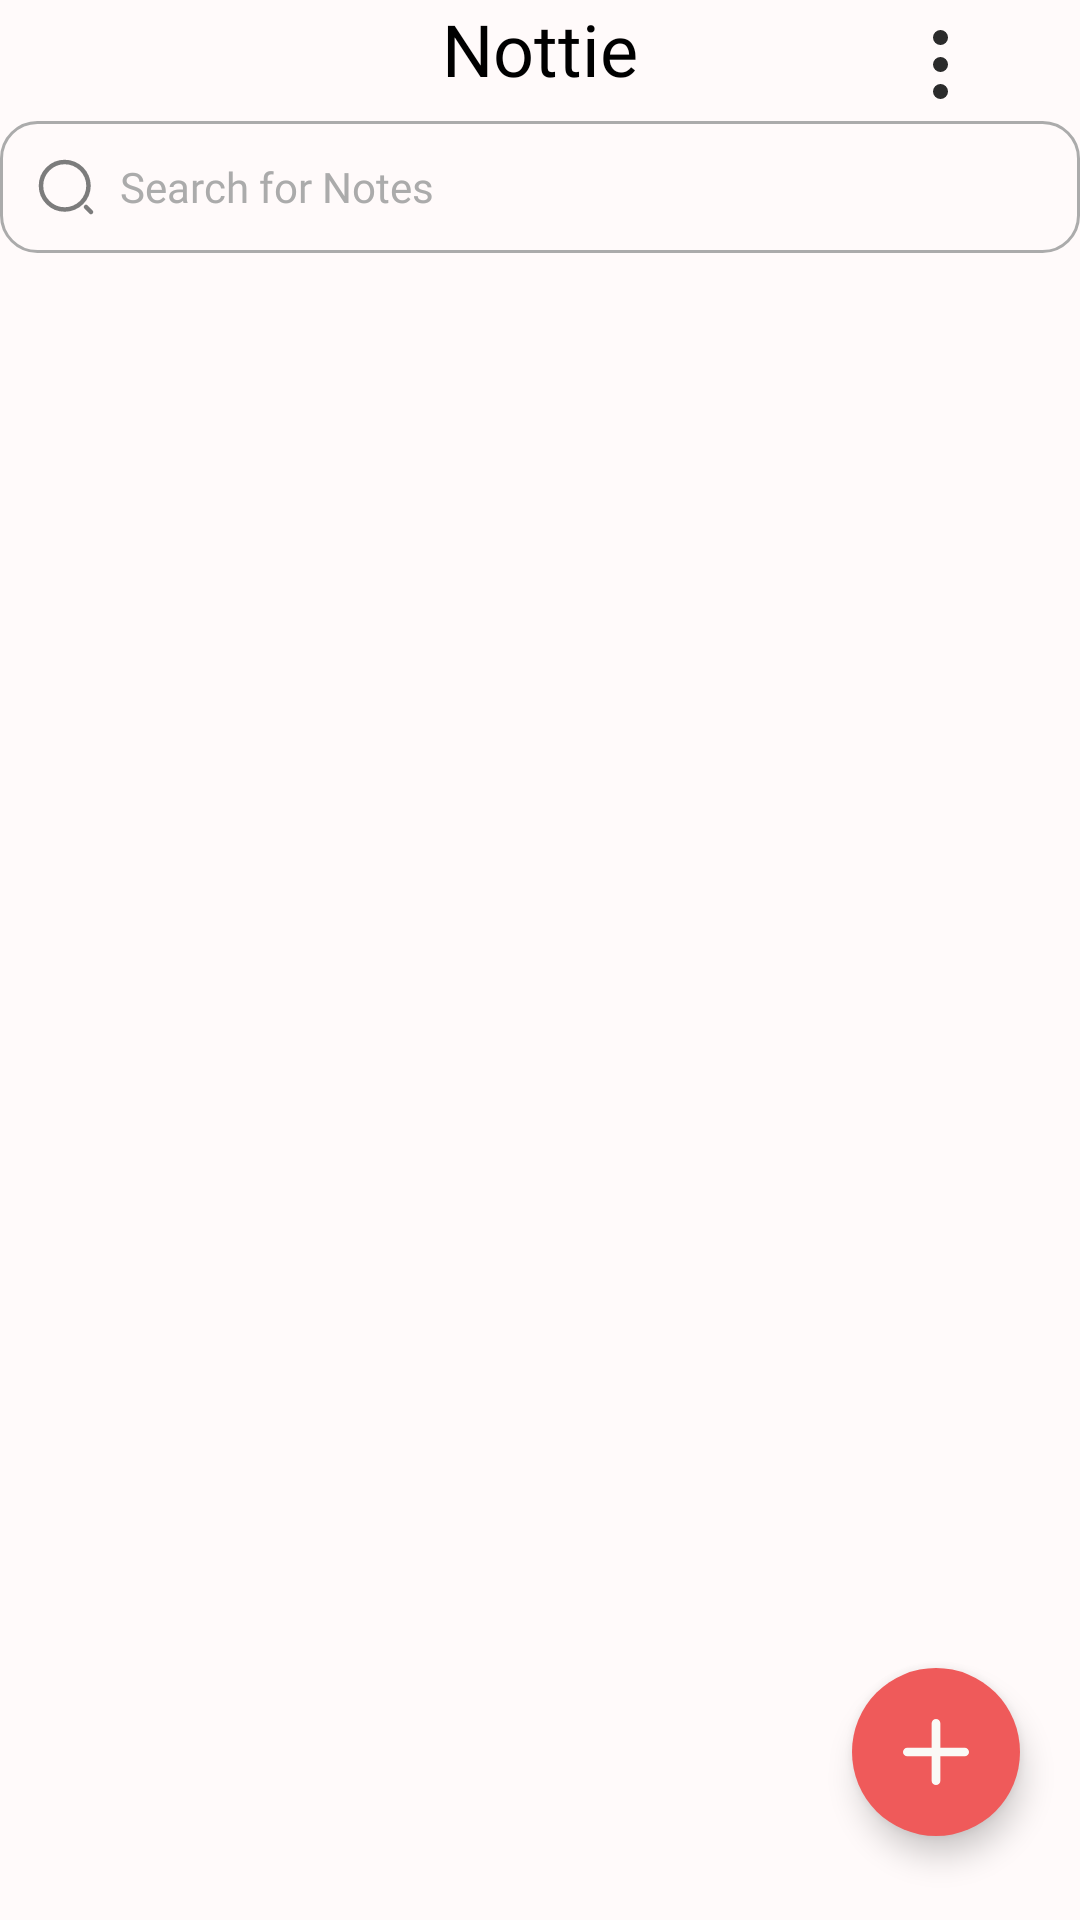

Named icons in this screenshot (1080x1920) and their centers, [x,y]:
add: [936,1752]
kebab menu: [940,64]
